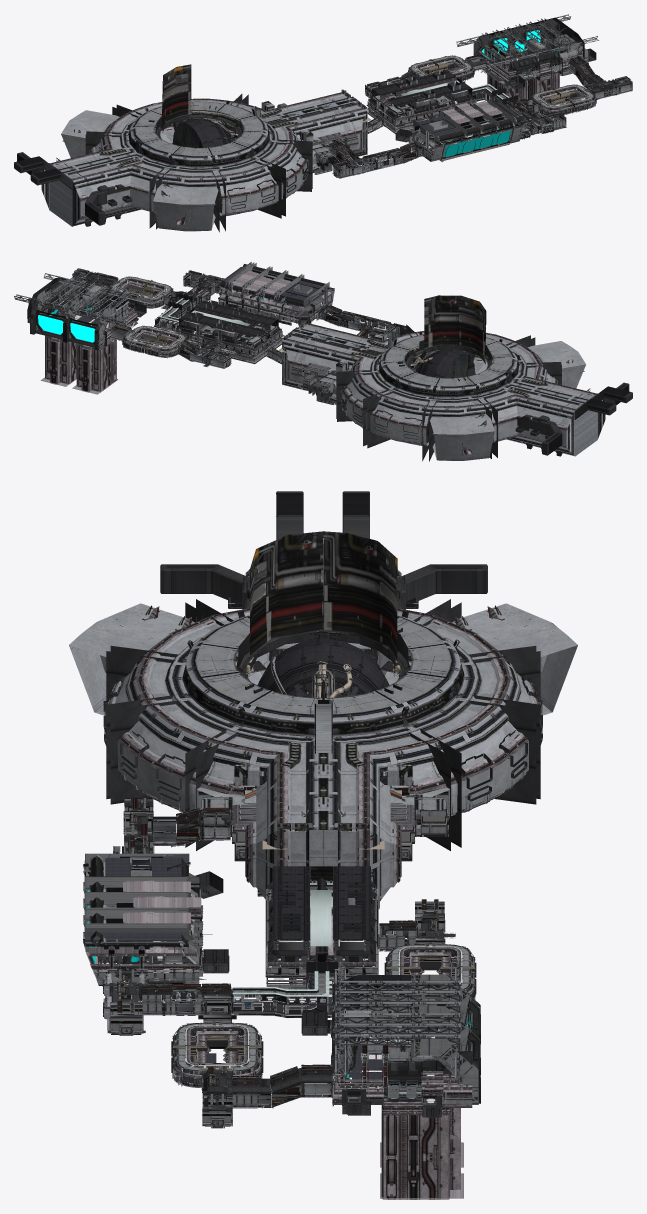
File: SUP_halo_4spartan_opsmission_9_infinity.glb
3 renders of one model, top to bottom at view 1: azimuth 30°, elevation 25°; view 2: azimuth 150°, elevation 25°; view 3: azimuth 270°, elevation 25°, orthographic. The views are drawn at different scales.
Visible parts, largest first — view 1: SUP_halo_4spartan_opsmission_9_infinity; view 2: SUP_halo_4spartan_opsmission_9_infinity; view 3: SUP_halo_4spartan_opsmission_9_infinity.
Part boxes in pixels (bbox=[...]): SUP_halo_4spartan_opsmission_9_infinity: bbox=[14, 14, 632, 232]; SUP_halo_4spartan_opsmission_9_infinity: bbox=[14, 262, 632, 461]; SUP_halo_4spartan_opsmission_9_infinity: bbox=[69, 491, 577, 1199].
Bounding box in the file's own units: 798 × 182 × 307.
52 materials, 48 textured.
